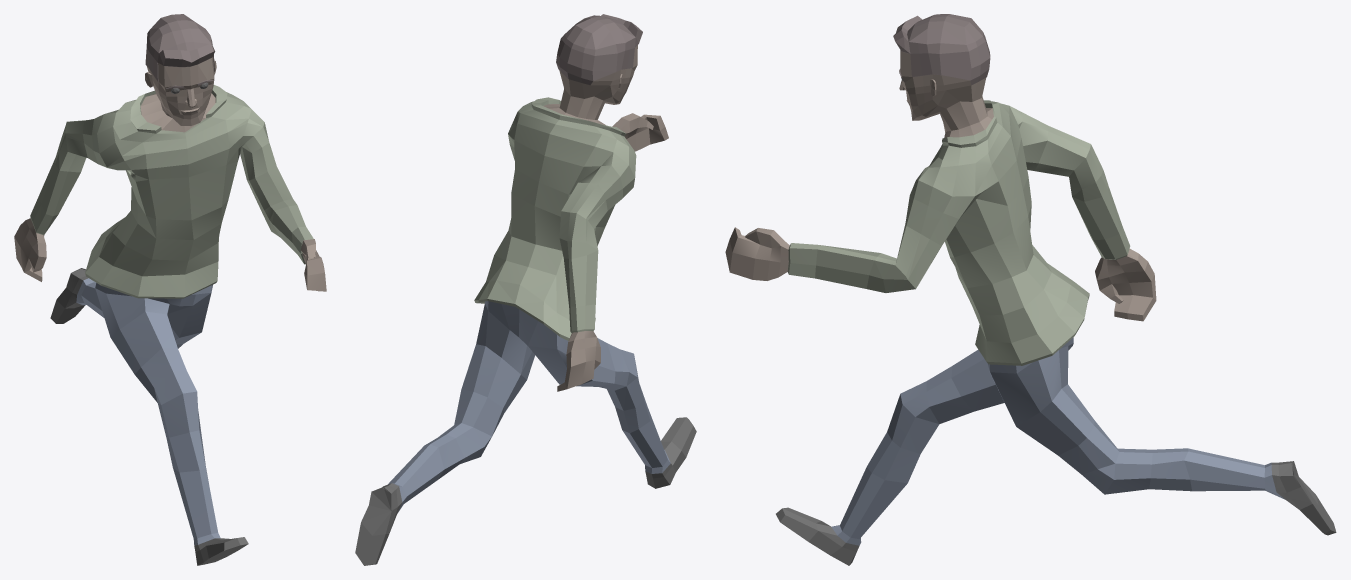
The model's file is run_0.glb.
3 views of the same model, side by side, from view 1: azimuth 30°, elevation 25°; view 2: azimuth 150°, elevation 25°; view 3: azimuth 270°, elevation 25° (orthographic). The views are drawn at different scales.
Parts seen in each view (by area): view 1: BaseHuman_baked; view 2: BaseHuman_baked; view 3: BaseHuman_baked.
Boxes of the visible parts, box(x1,y1,x2,y2) form: BaseHuman_baked: box(14, 14, 326, 565); BaseHuman_baked: box(355, 14, 696, 565); BaseHuman_baked: box(725, 14, 1336, 565).
Size of the model in its own units: 1.47 by 4.2 by 4.2.
